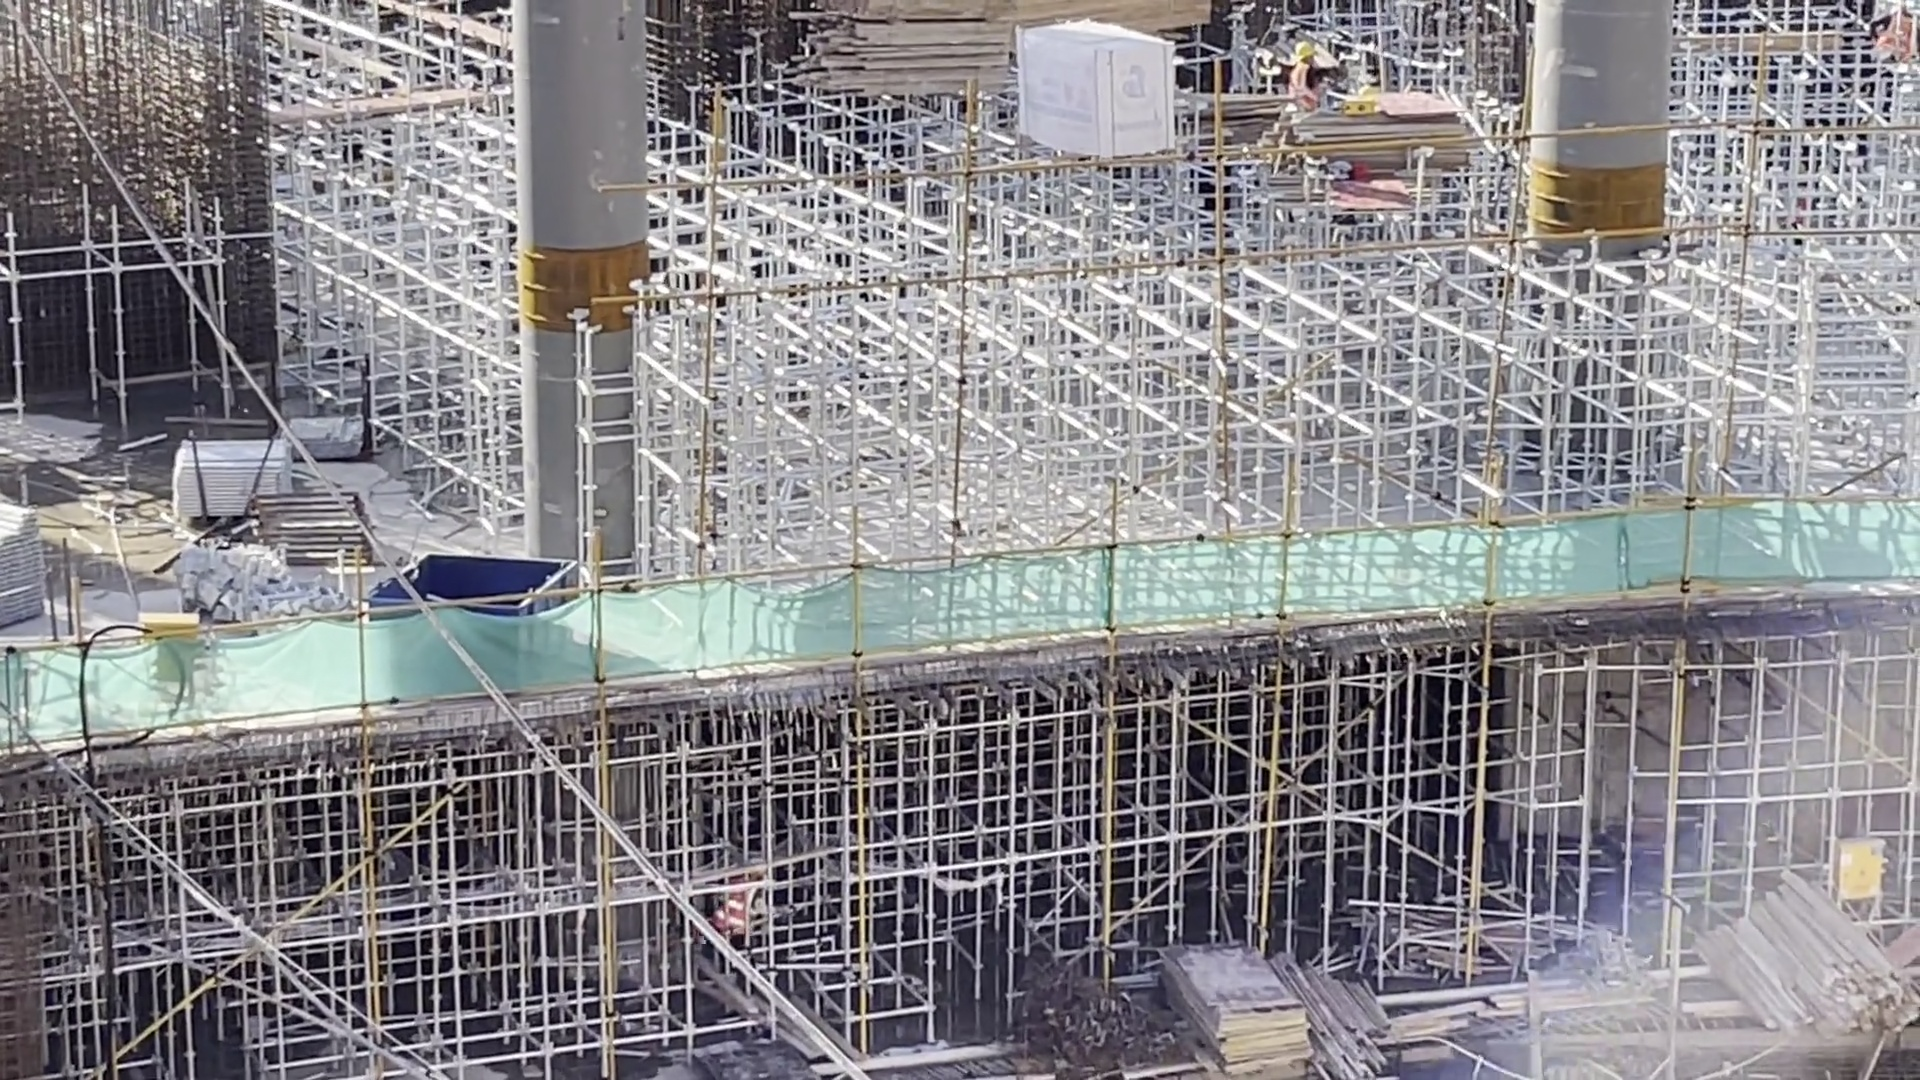board: (1159, 937, 1314, 1079), (1285, 86, 1491, 172)
ebox: (1830, 832, 1888, 912), (141, 612, 204, 632)
helmet: (1292, 41, 1318, 61)
hopper: (365, 550, 591, 601)
person: (1290, 41, 1346, 114)
scaffold: (169, 435, 300, 497)
vest: (1292, 65, 1323, 112)
wood: (1682, 869, 1920, 1042), (782, 2, 1011, 108), (1308, 963, 1396, 1080)
